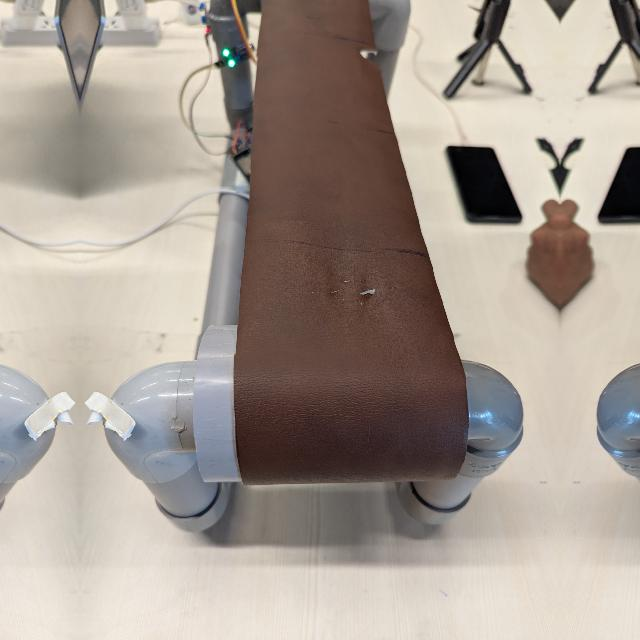belt_crack: (333, 263, 415, 326)
belt_tear: (348, 39, 379, 71)
